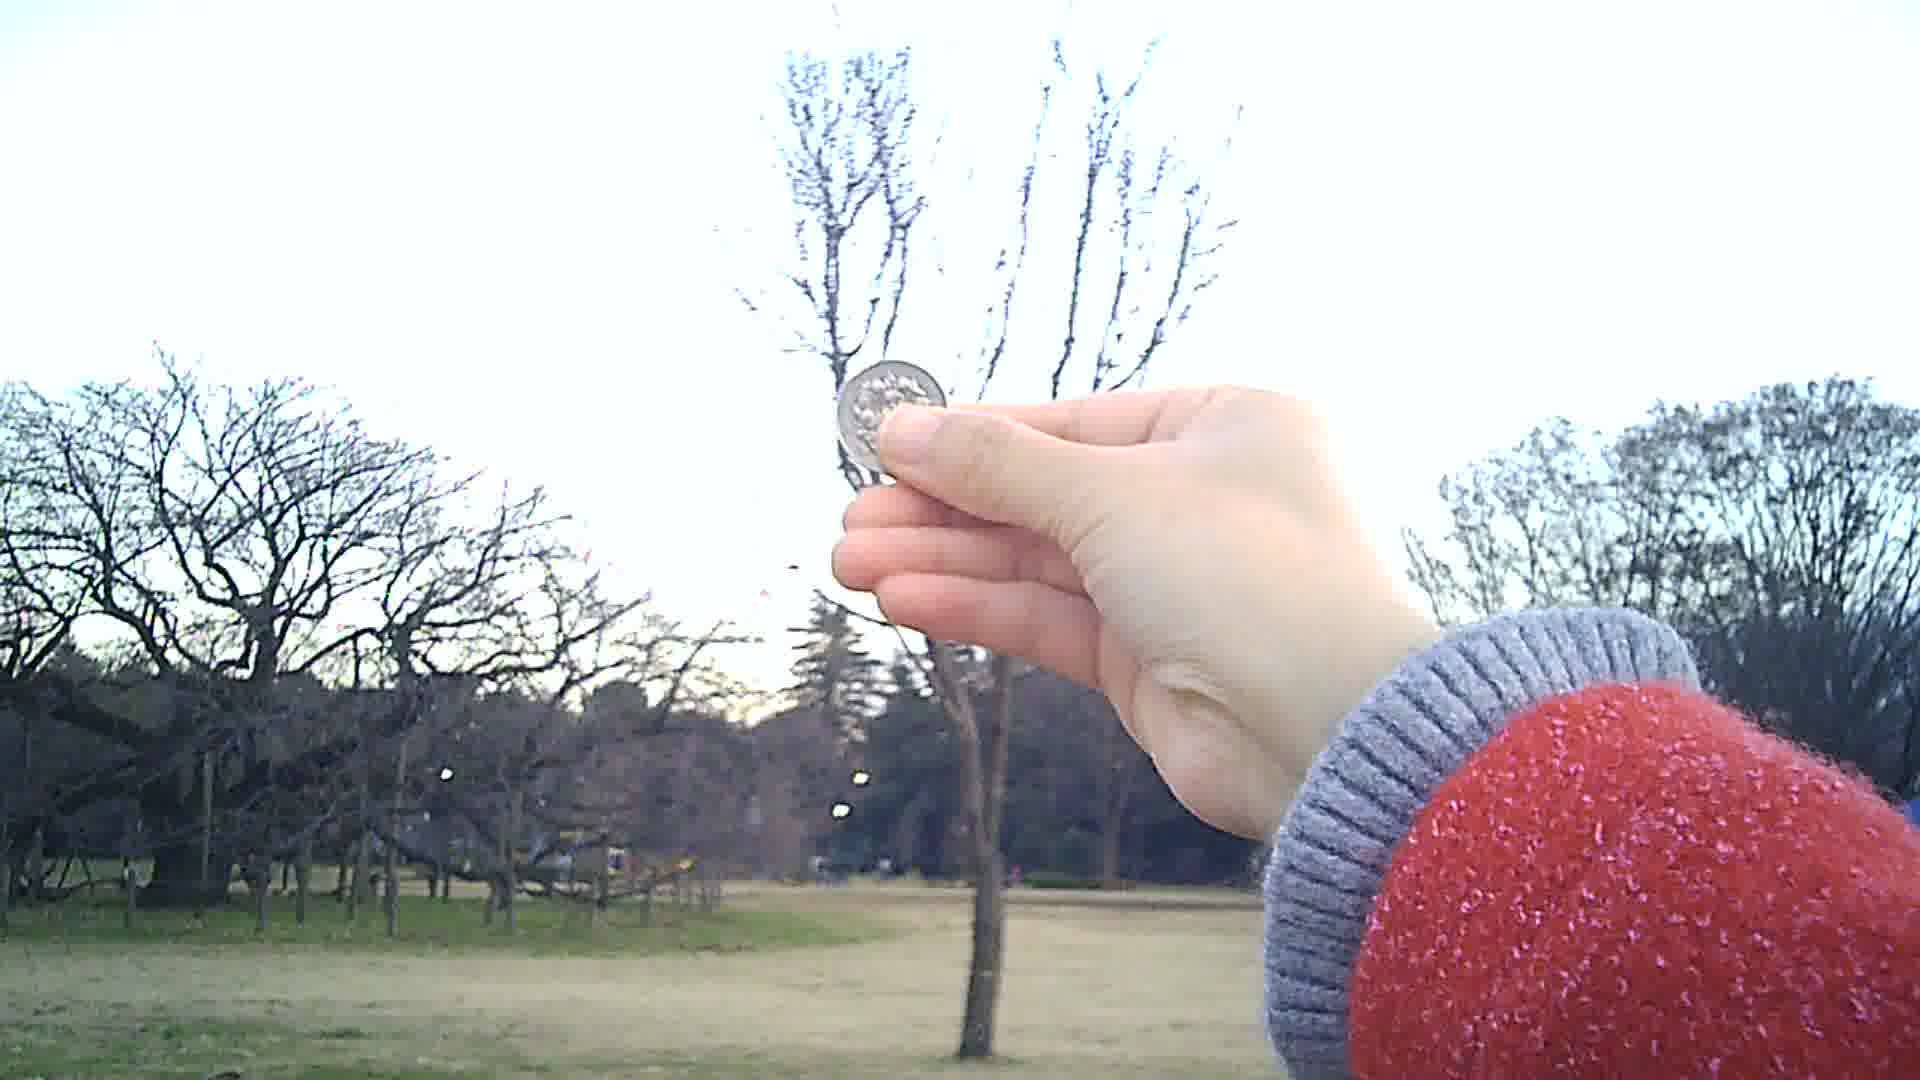100 Yen: (833, 357, 961, 485)
